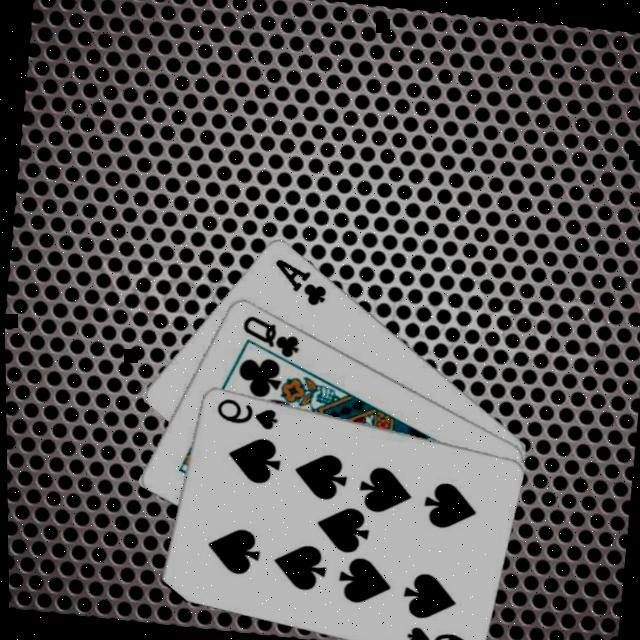9S: (210, 392, 282, 431), (402, 618, 472, 640)
AC: (266, 252, 332, 308)
QC: (236, 308, 305, 358)
